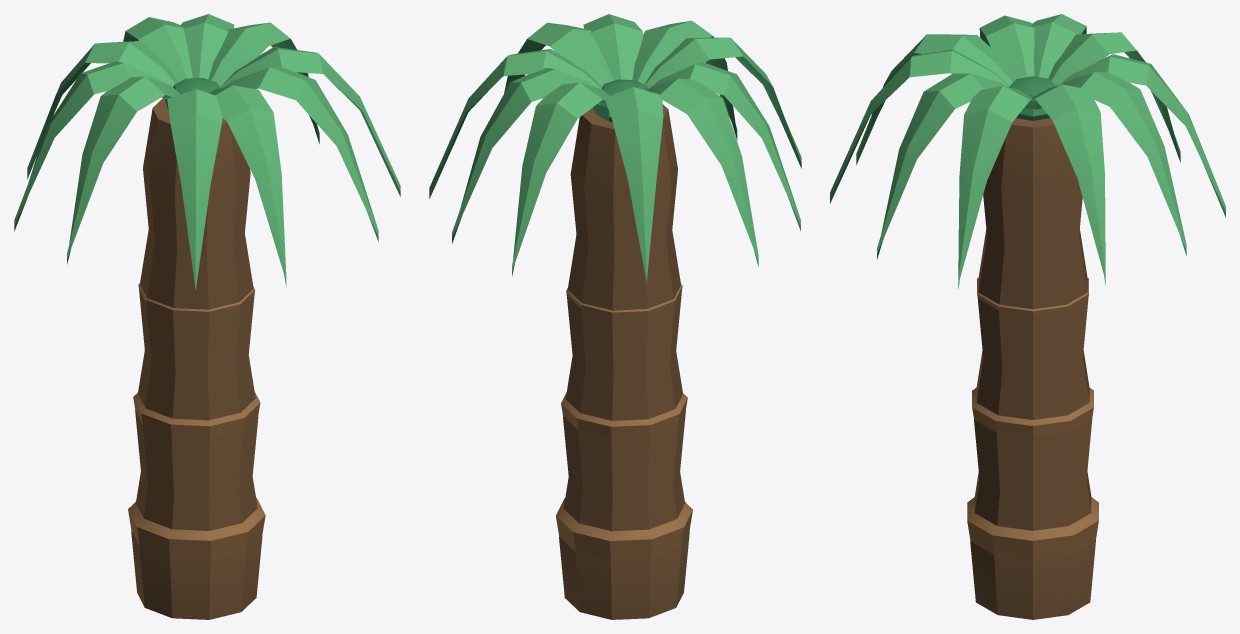
The model's file is cycad.glb.
The picture shows the model from 3 angles, left to right: view 1: azimuth 30°, elevation 25°; view 2: azimuth 150°, elevation 25°; view 3: azimuth 270°, elevation 25°; orthographic projection.
Visible parts, largest first — view 1: cycad; view 2: cycad; view 3: cycad.
Boxes of the visible parts, x1,y1,x2,y2 form: cycad: (14,14,400,619); cycad: (429,14,801,619); cycad: (830,14,1225,619).
Bounding box in the file's own units: 2.87 × 4.57 × 3.03.
